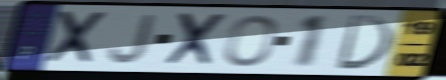1: (292, 13, 331, 71)
D: (333, 13, 396, 72)
J: (106, 13, 158, 66)
O: (222, 13, 279, 69)
X: (161, 11, 229, 69), (42, 9, 110, 67)
